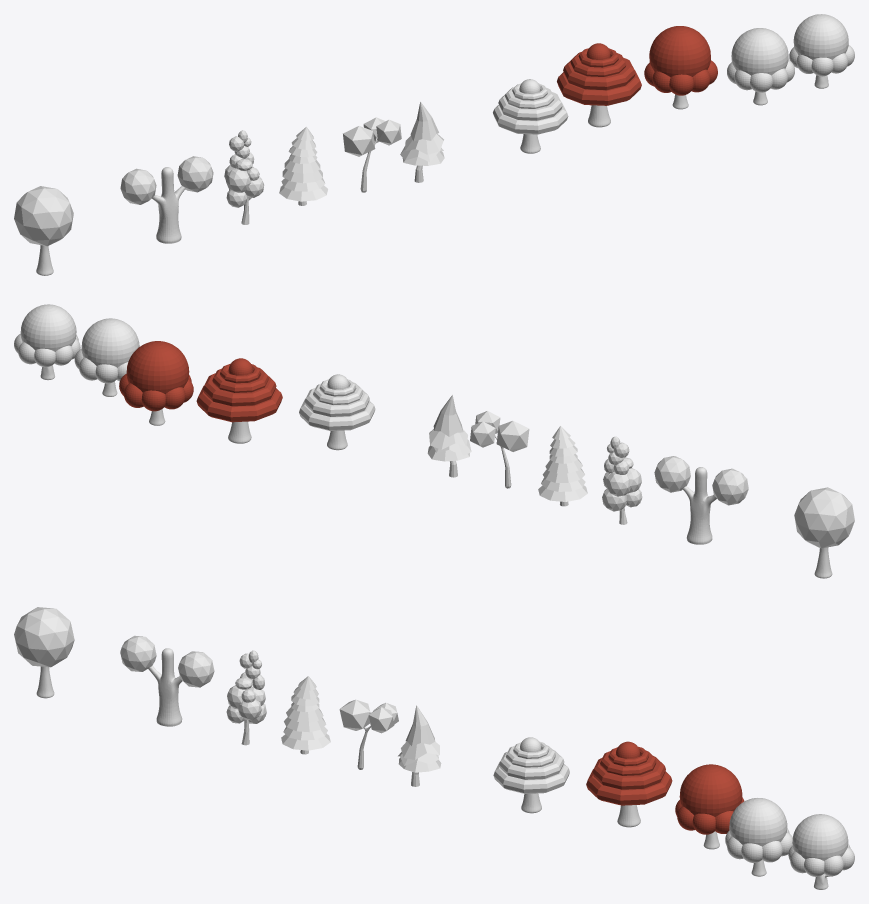
The model's file is All Tree.fbx.
The picture shows the model from 3 angles, top to bottom: view 1: azimuth 30°, elevation 25°; view 2: azimuth 150°, elevation 25°; view 3: azimuth 330°, elevation 25°; orthographic projection.
Parts seen in each view (by area): view 1: Icosphere.002, Icosphere.004, Sphere.020, Circle, Sphere.001, tree 2, Sphere.010, tree 1, Icosphere, Torus.005, Torus.001, Torus.006 (+3 smaller); view 2: Icosphere.002, Icosphere.004, Sphere.020, Circle, tree 2, Sphere.001, Sphere.010, tree 1, Icosphere, Torus.005, Torus.001, Torus.006 (+3 smaller); view 3: Icosphere.002, Icosphere.004, Sphere.020, Circle, tree 2, Sphere.001, Sphere.010, tree 1, Torus.005, Icosphere, Torus.006, Torus.001 (+3 smaller).
Boxes of the visible parts, x1,y1,x2,y2 form: Icosphere.002: (120, 156, 213, 243); Icosphere.004: (14, 186, 73, 246); Sphere.020: (649, 26, 710, 77); Circle: (279, 127, 327, 205); Sphere.001: (731, 28, 788, 75); tree 2: (224, 130, 264, 224); Sphere.010: (793, 14, 848, 59); tree 1: (400, 101, 444, 182); Icosphere: (343, 117, 401, 156); Torus.005: (557, 70, 641, 105); Torus.001: (493, 103, 568, 134); Torus.006: (563, 57, 635, 90); Icosphere.002: (654, 456, 748, 544); Icosphere.004: (794, 487, 854, 548); Sphere.020: (126, 341, 189, 393); Circle: (538, 426, 587, 506); tree 2: (602, 436, 642, 524); Sphere.001: (81, 318, 139, 367); Sphere.010: (20, 304, 76, 351); tree 1: (427, 395, 471, 477); Icosphere: (470, 411, 529, 451); Torus.005: (196, 386, 282, 422); Torus.001: (299, 398, 375, 430); Torus.006: (203, 373, 276, 406); Icosphere.002: (120, 635, 214, 726); Icosphere.004: (14, 607, 74, 667); Sphere.020: (679, 764, 742, 816); Circle: (281, 676, 330, 754); tree 2: (226, 650, 266, 745); Sphere.001: (729, 798, 787, 846); Sphere.010: (792, 814, 848, 860); tree 1: (398, 705, 441, 786); Torus.005: (586, 769, 672, 805); Icosphere: (339, 699, 398, 733); Torus.006: (592, 756, 665, 789); Torus.001: (493, 762, 569, 793).
Size of the model in its own units: 8784 by 925 by 985.
